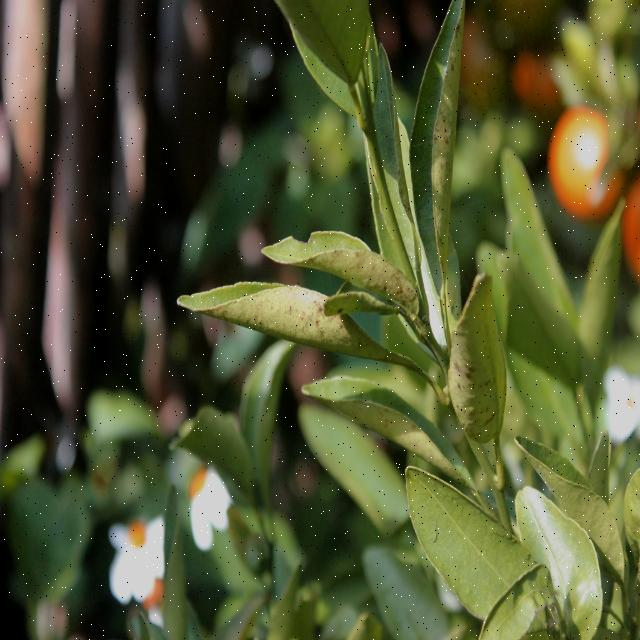melanose: (168, 250, 406, 395), (408, 2, 473, 284)
